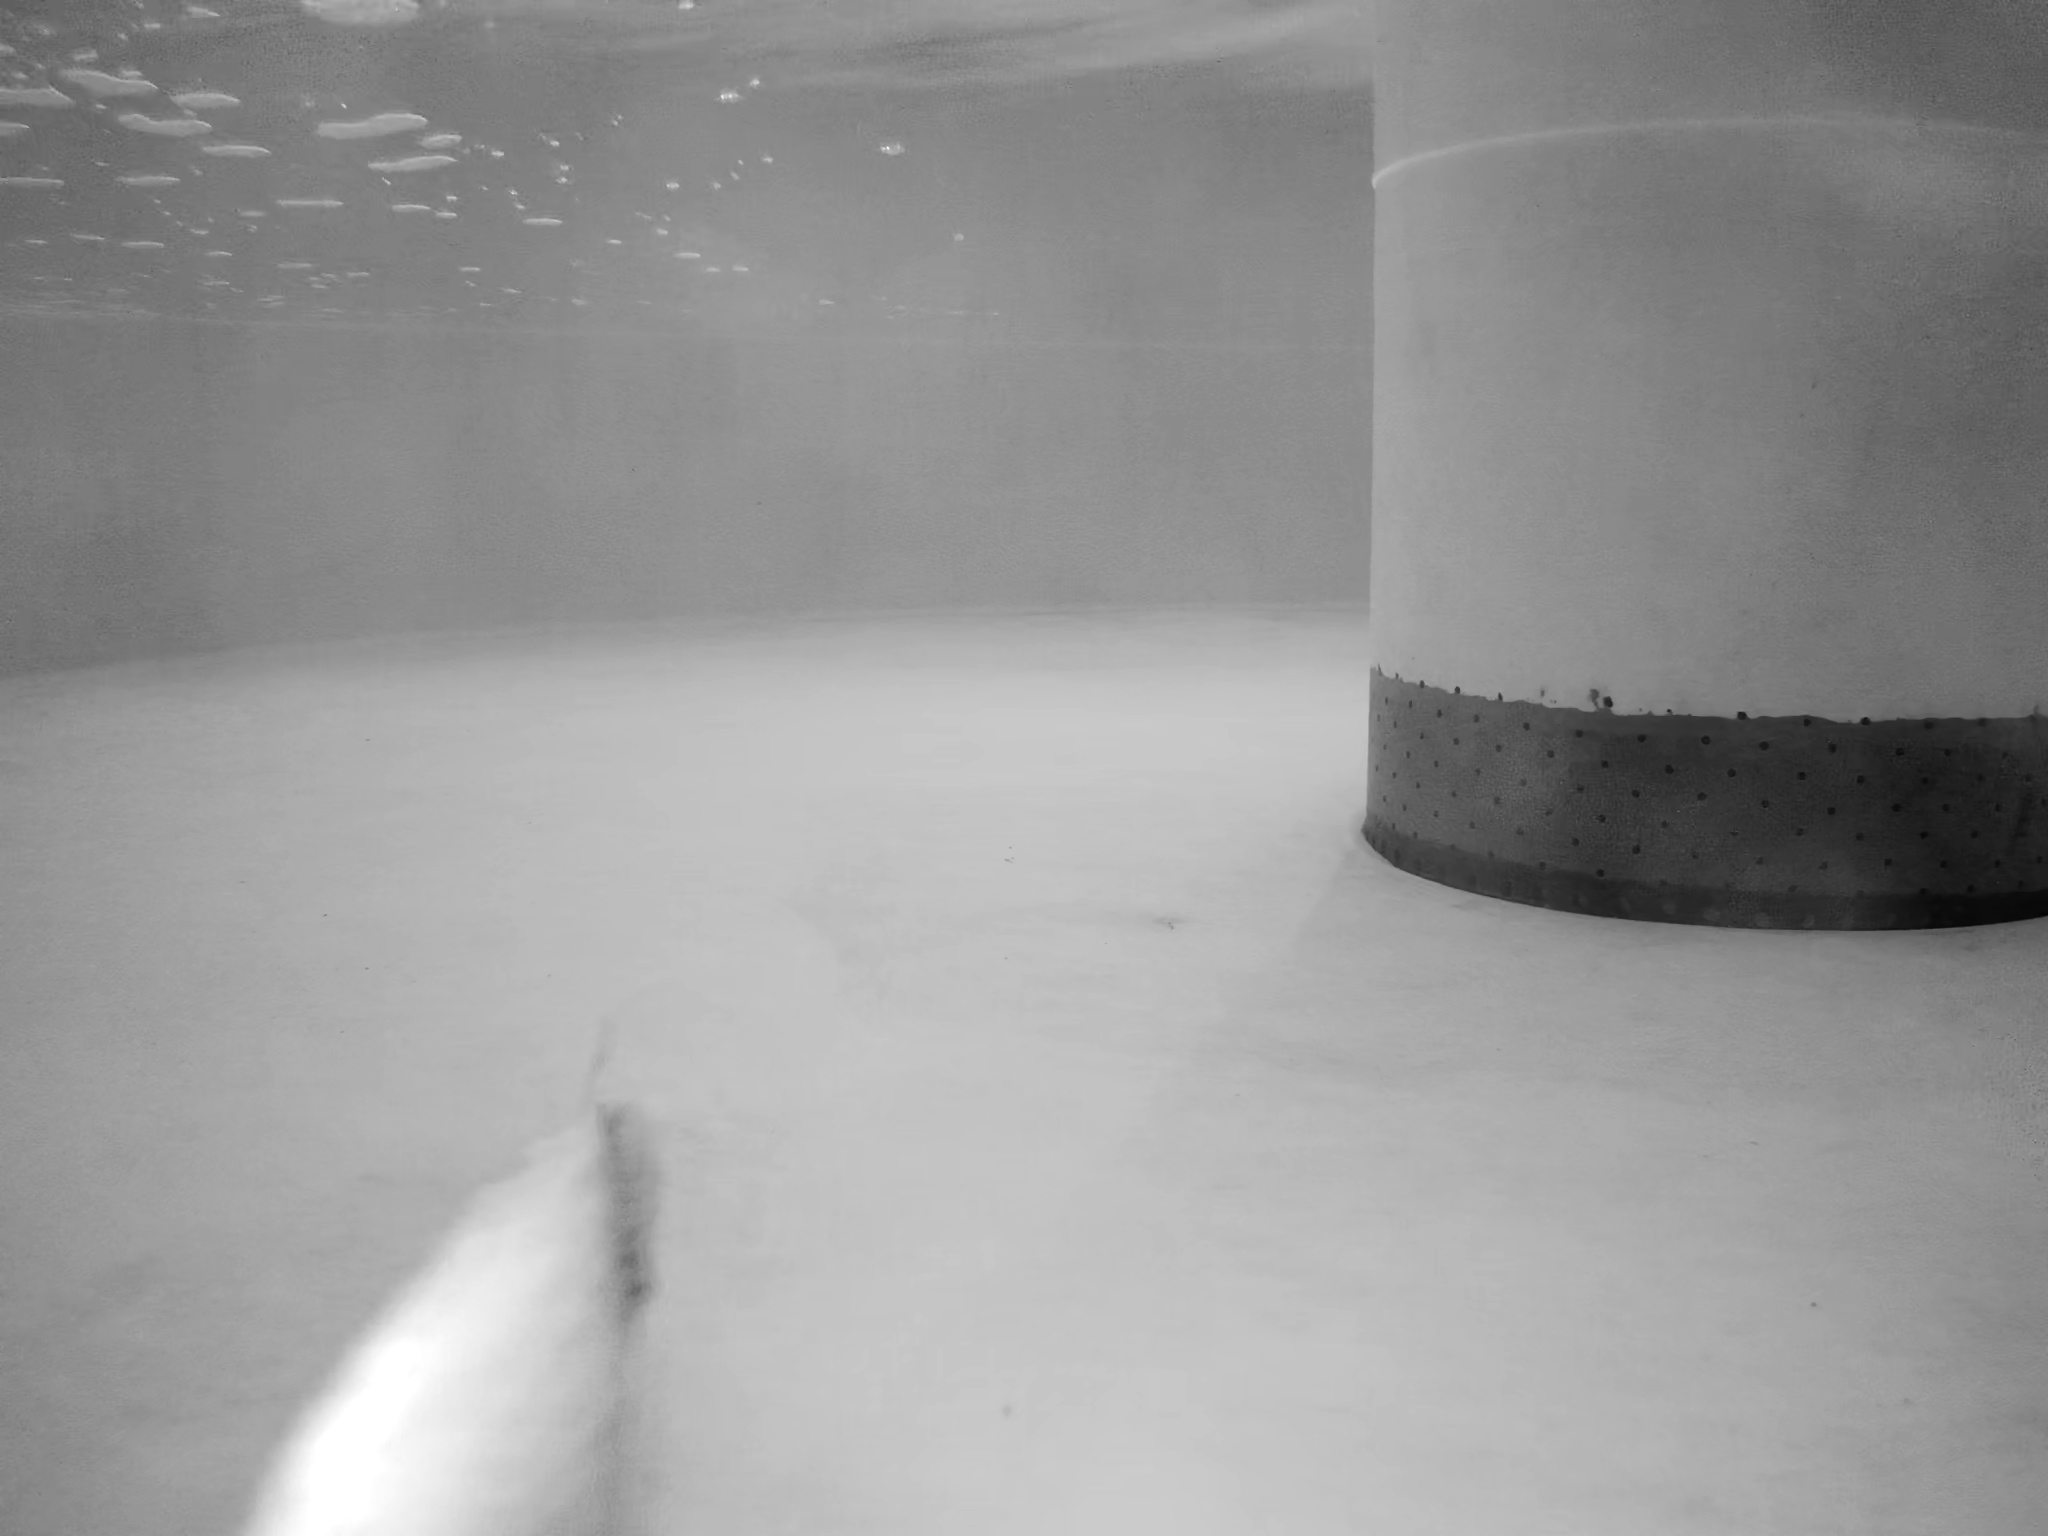fish: (213, 1100, 703, 1536)
